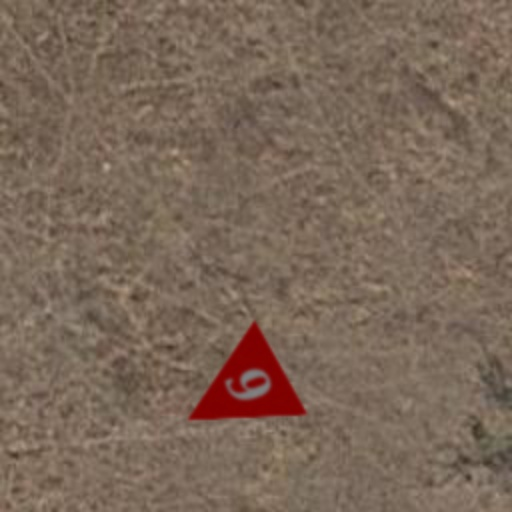triangle: (158, 318, 310, 470)
